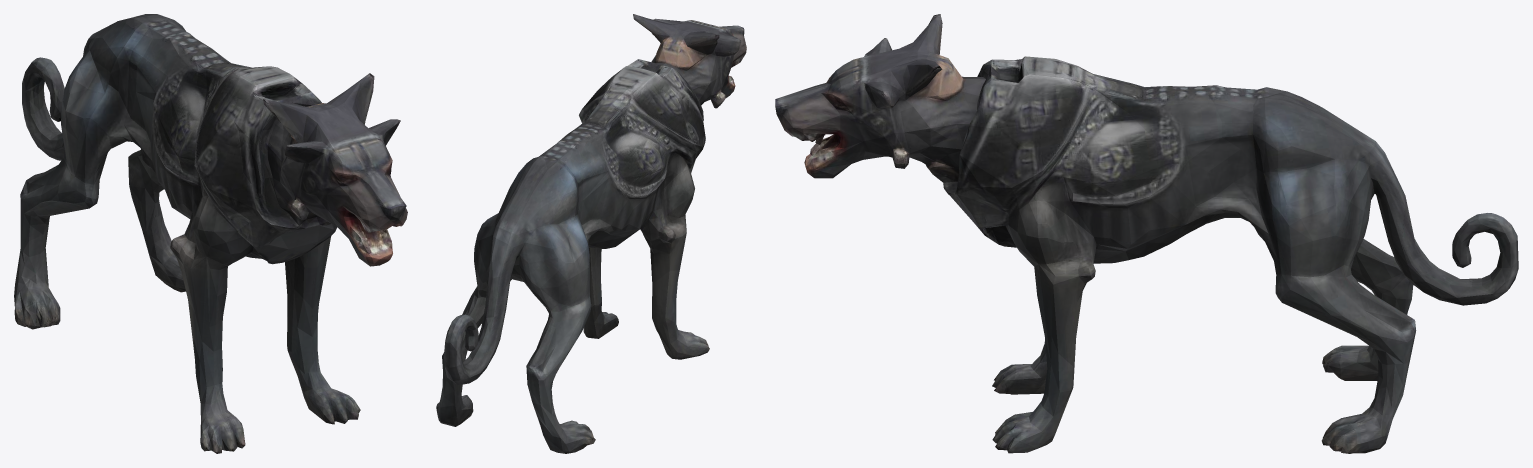
The model's file is prisonHound.glb.
3 renders of one model, left to right at view 1: azimuth 30°, elevation 25°; view 2: azimuth 150°, elevation 25°; view 3: azimuth 270°, elevation 25°, orthographic. The views are drawn at different scales.
Visible parts, largest first — view 1: world; view 2: world; view 3: world.
Part boxes in pixels (bbox=[...]): world: bbox=[14, 14, 407, 453]; world: bbox=[436, 14, 746, 453]; world: bbox=[775, 14, 1518, 453].
Bounding box in the file's own units: 0.3068 × 0.5599 × 0.9992.
Materials: 1 (1 with a texture image).
